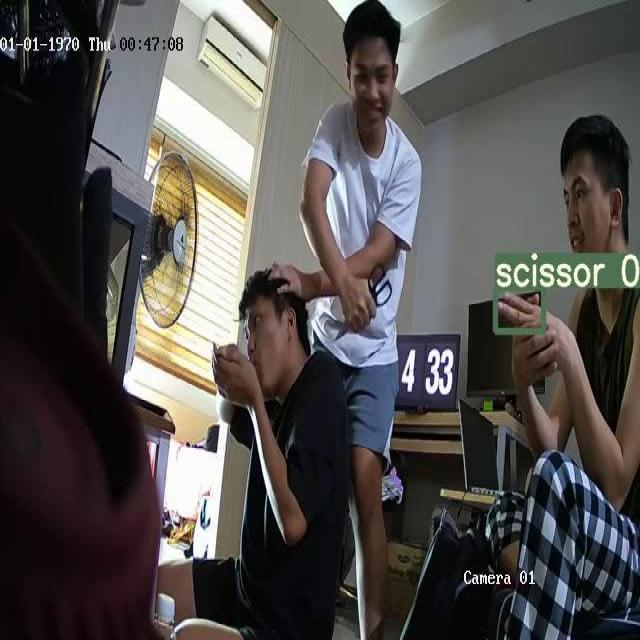scissor: (334, 266, 392, 342)
